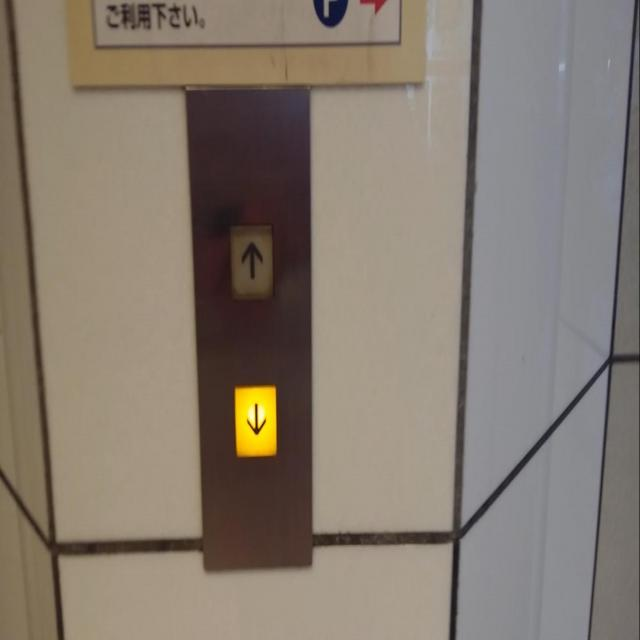down: (231, 380, 280, 462)
up: (226, 216, 277, 307)
